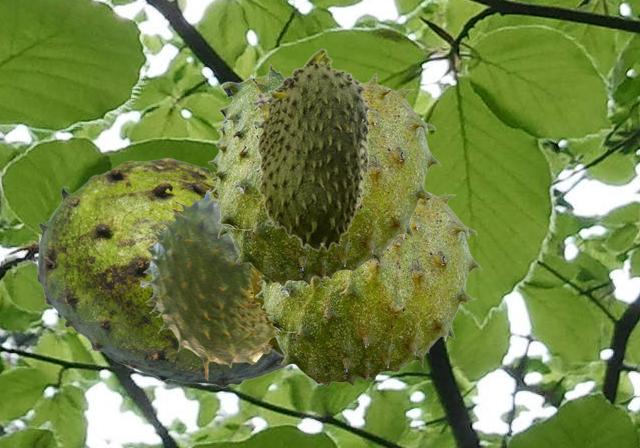guyabano: (34, 157, 287, 387), (207, 63, 440, 285), (255, 191, 481, 386), (140, 189, 276, 379), (252, 47, 374, 251), (251, 268, 283, 358)
